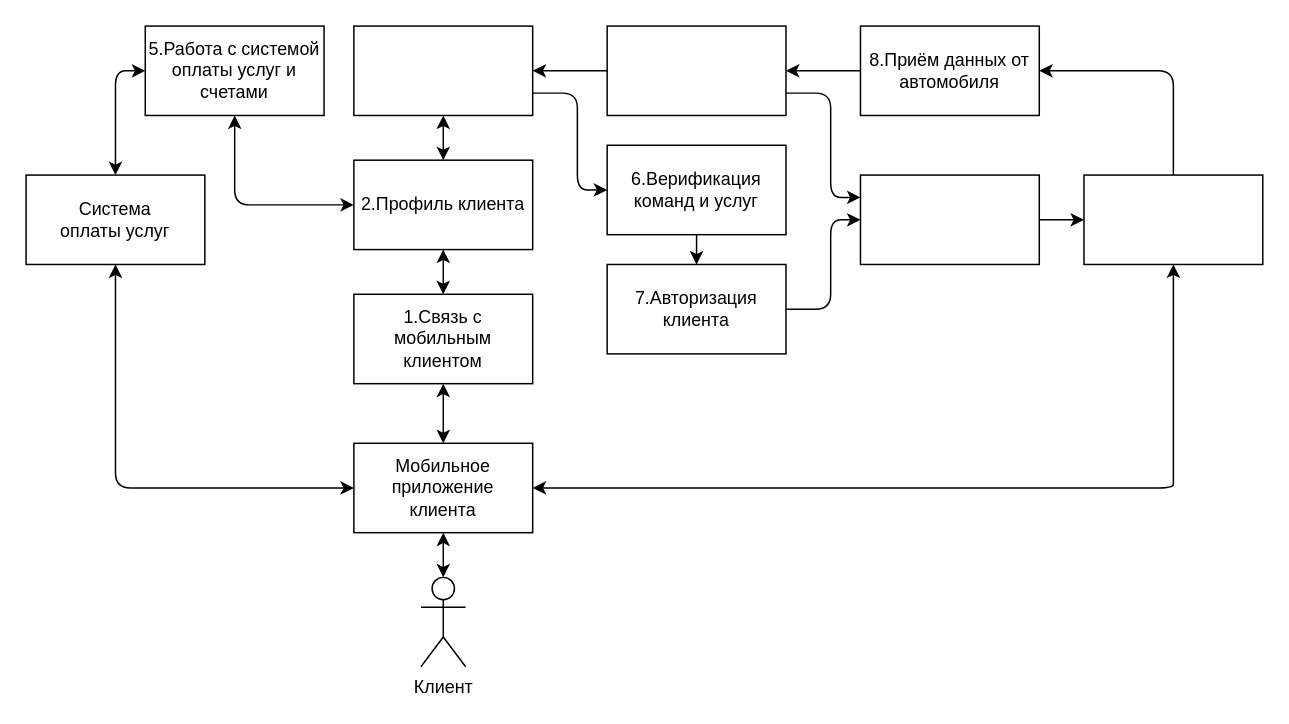
Image size: 1289x724. Some labels were removed from this diagram. The shapes that lost their labels are listed below. From the top down, each one's box as (x1, y1, x2, y2) in pixels, then its label:
(352, 25, 533, 115): 3.Управление поездкой
(606, 25, 786, 115): 4.Контроль поездки
(859, 174, 1039, 264): 9.Отправка данных в автомобиль
(1082, 174, 1263, 264): Автомобиль
